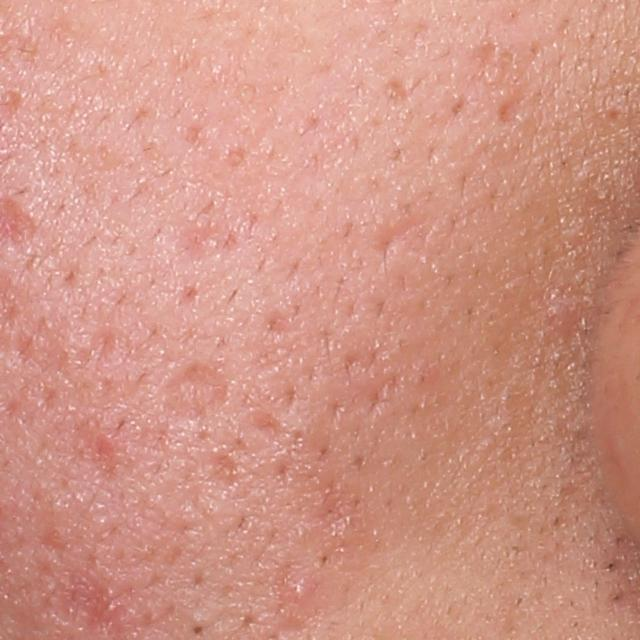atrophic_scar: (163, 362, 230, 417), (235, 405, 296, 458), (372, 209, 420, 259), (200, 448, 243, 493), (494, 85, 533, 125), (382, 76, 414, 106)
papule: (281, 574, 310, 603)
